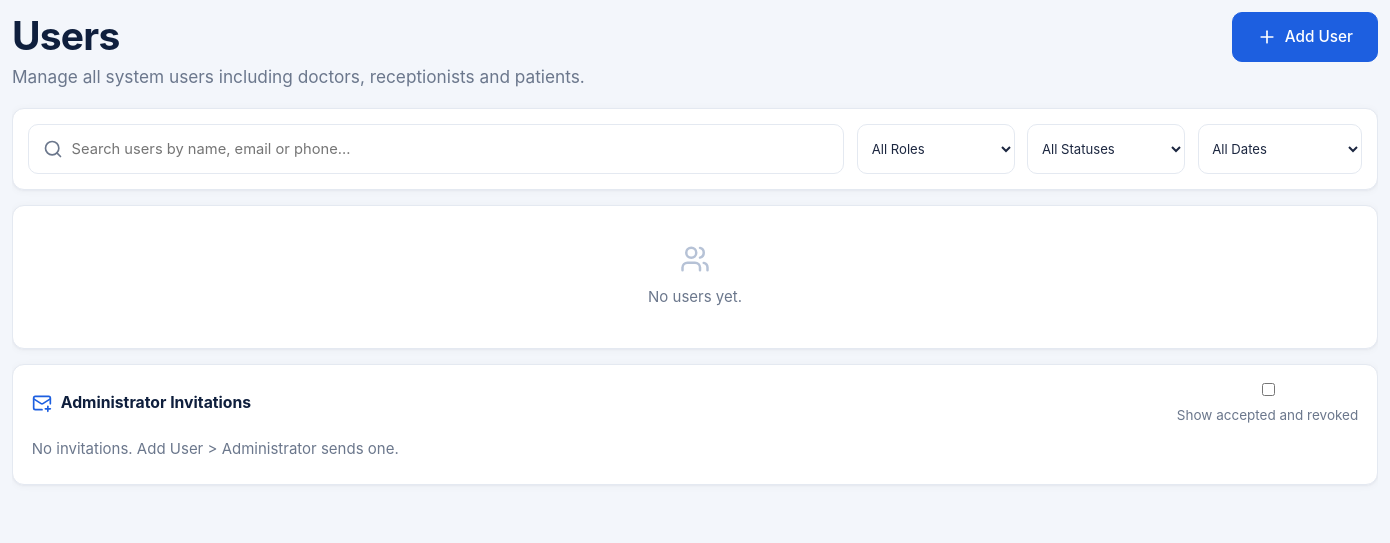
Test: Users list › says when nothing matches and offers to clear
Expected: the text "No users yet." is shown, [648, 287, 742, 306]
Select "Inactive" in the 2nd dropdown named "Status" at [1106, 149], box [1027, 124, 1185, 174]
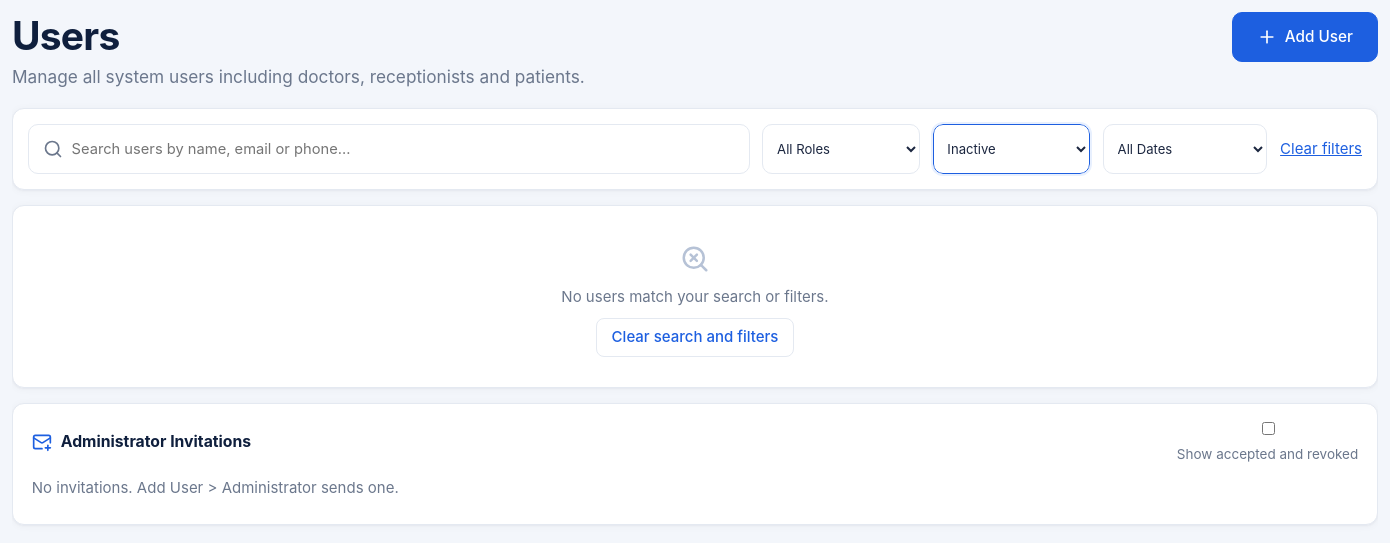
Expected: the text "No users match your search or filters." is shown, [561, 287, 829, 306]
